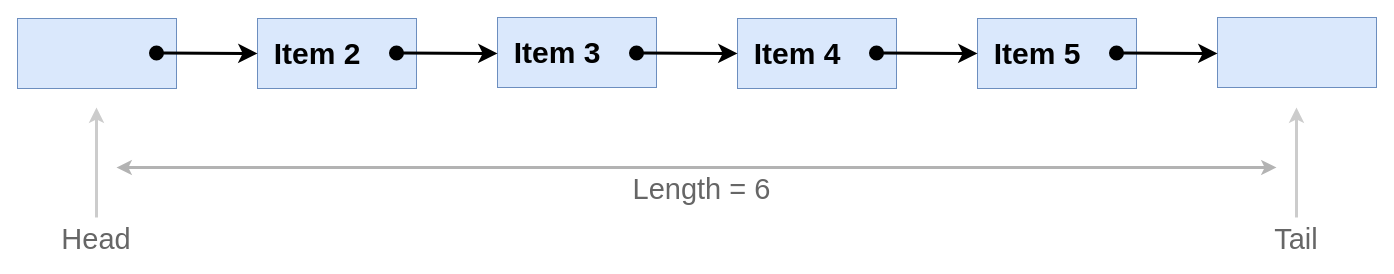
Some shapes in this 1394 by 274 pixel diagram are drawn without their labels. The shapes that lost their labels are listed below. From the top down, each one's box as (x1, y1, x2, y2) in pixels, then its label:
(16, 18, 176, 88): Item 1
(1216, 16, 1376, 88): Item 6
